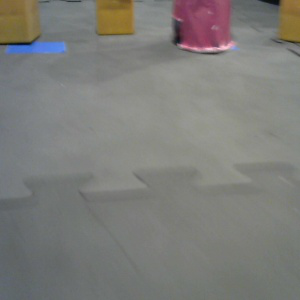Right: (171, 2, 237, 54)
